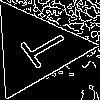T: (10, 23, 73, 75)
